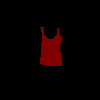canottiera: (39, 27, 62, 66)
